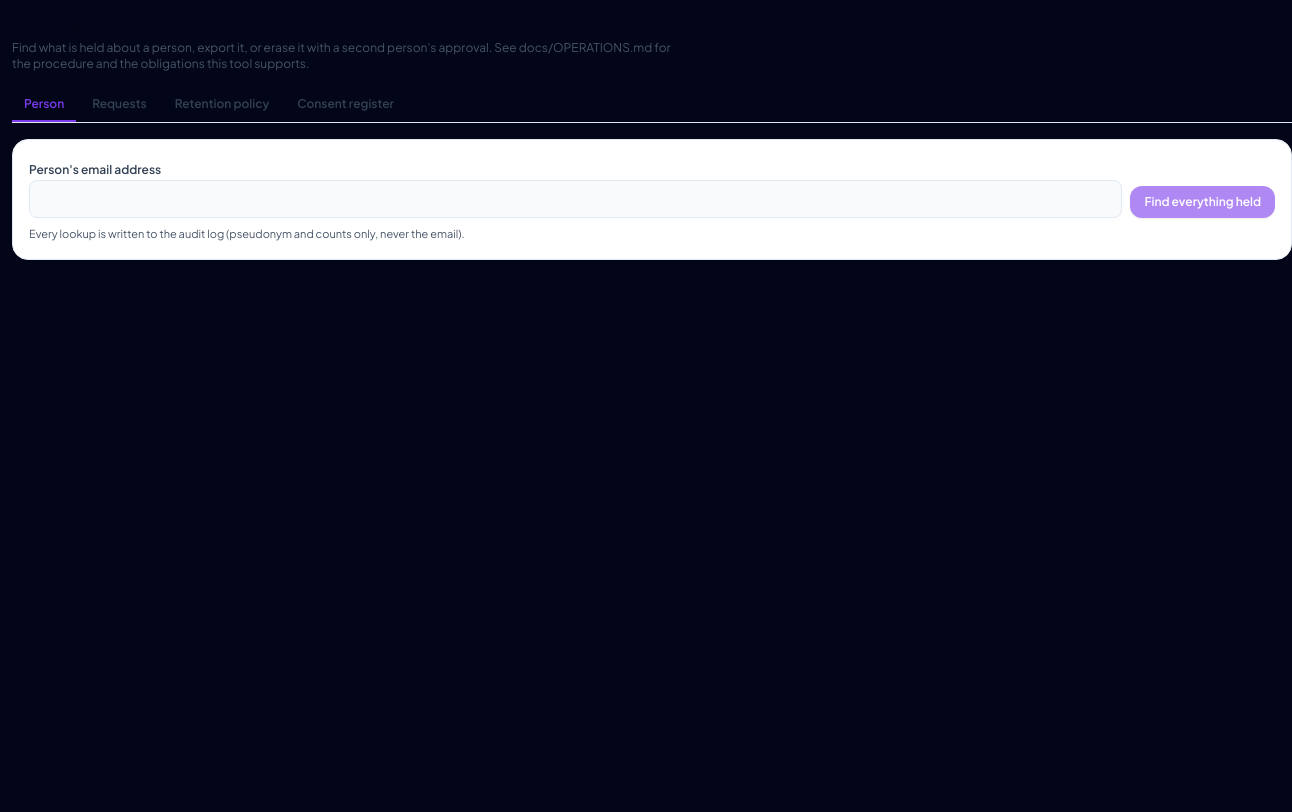
Scenario: DataPrivacyPage › finds a person, offers export for privacy.export holders, and hides the erase request without privacy.erase
In the field labelled "Person's email address": (576, 199) [29,180,1122,218], type "p@example.com"
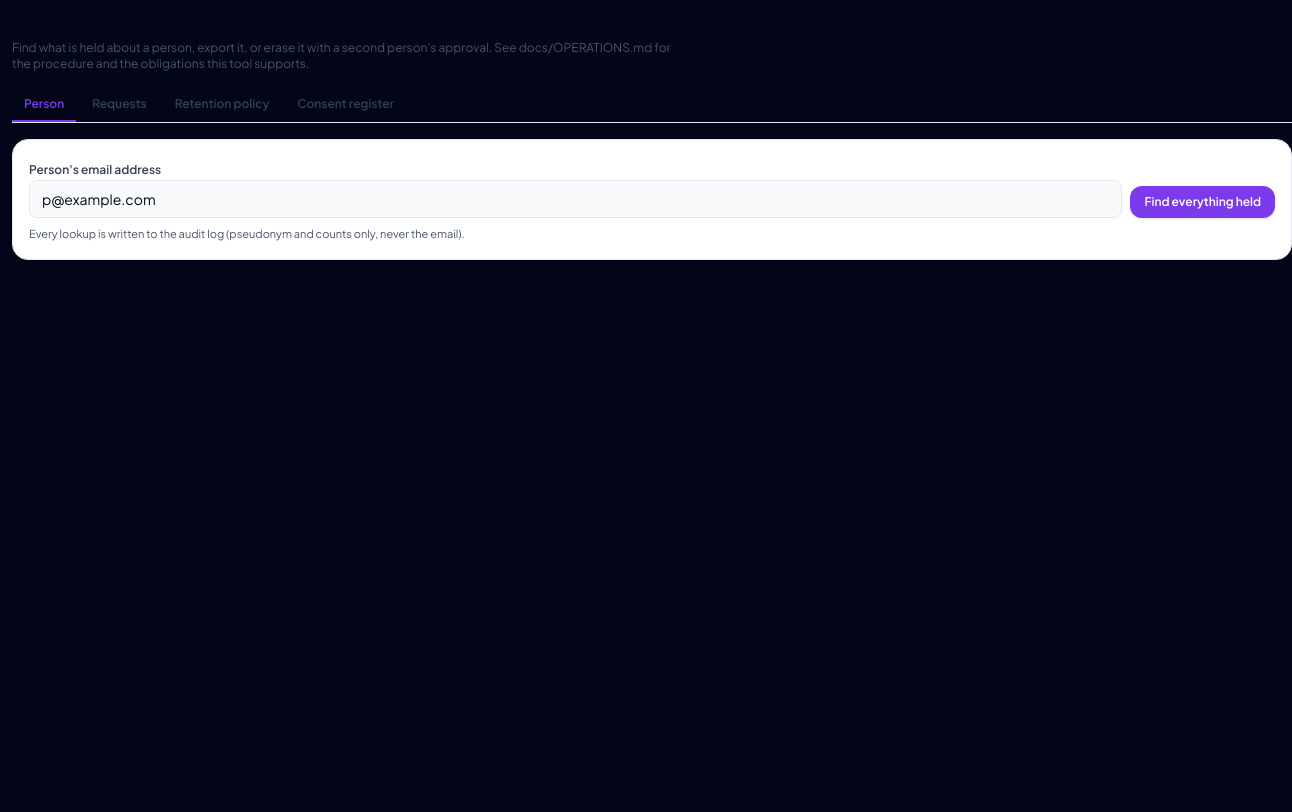
Click the button "Find everything held": (1203, 202) [1130,186,1275,218]
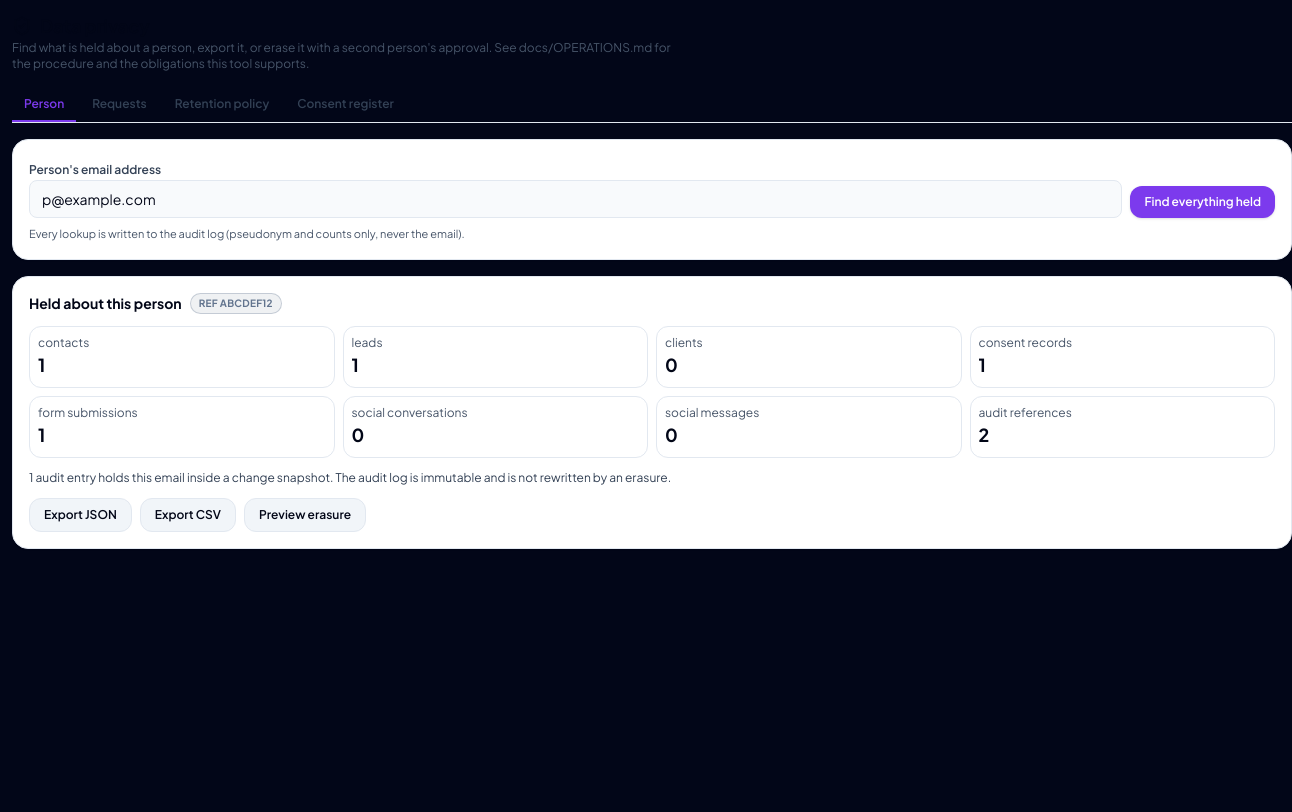
Now the heading "Held about this person" is shown, box [29,293,182,313]
Now the button "Export JSON" is shown, box [29,498,132,532]
Now the text "audit log is immutable" is shown, box [130,470,671,484]
Click the button "Preview erasure": (305, 514) [244,498,366,532]
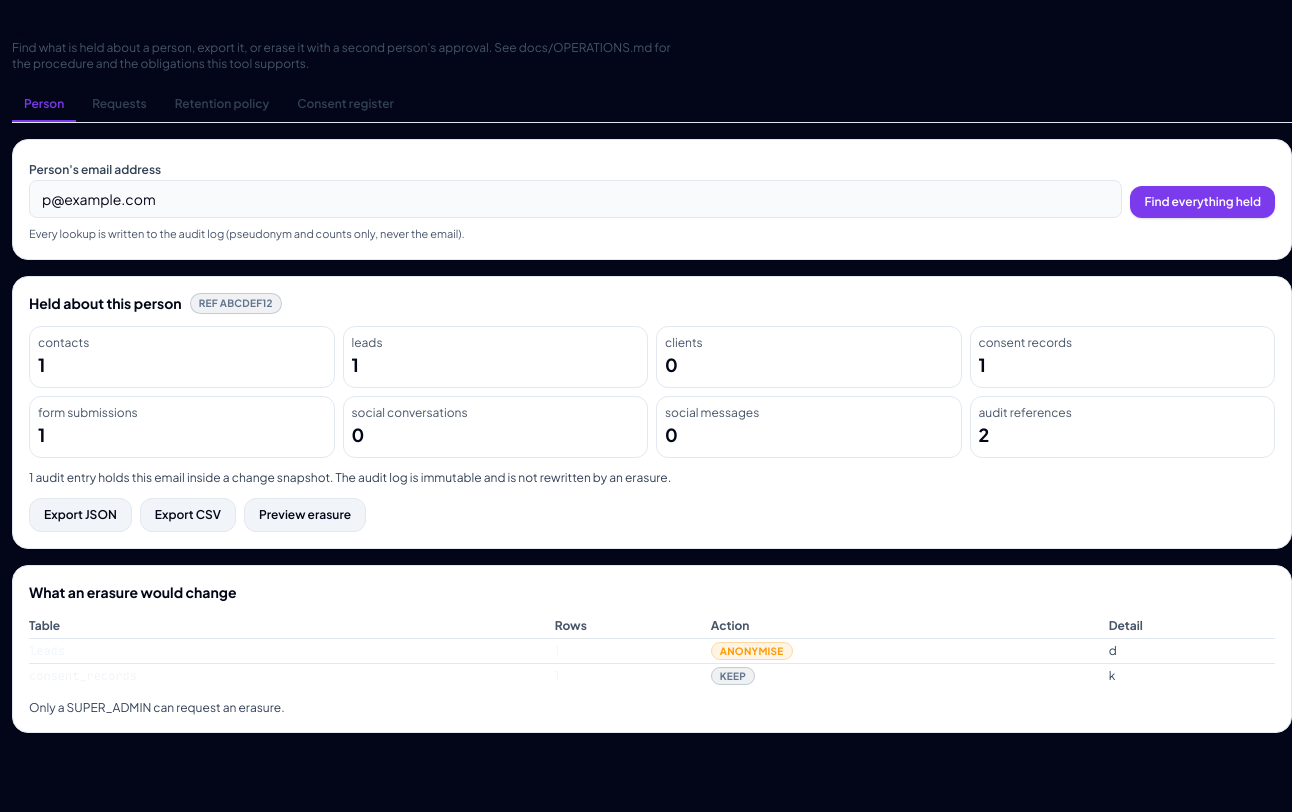
Now the heading "What an erasure would change" is shown, box [29,582,236,600]
Now the text "Anonymise" is shown, box [711,642,792,660]
Now the text "Only a SUPER_ADMIN can request an erasure." is shown, box [29,700,285,714]
